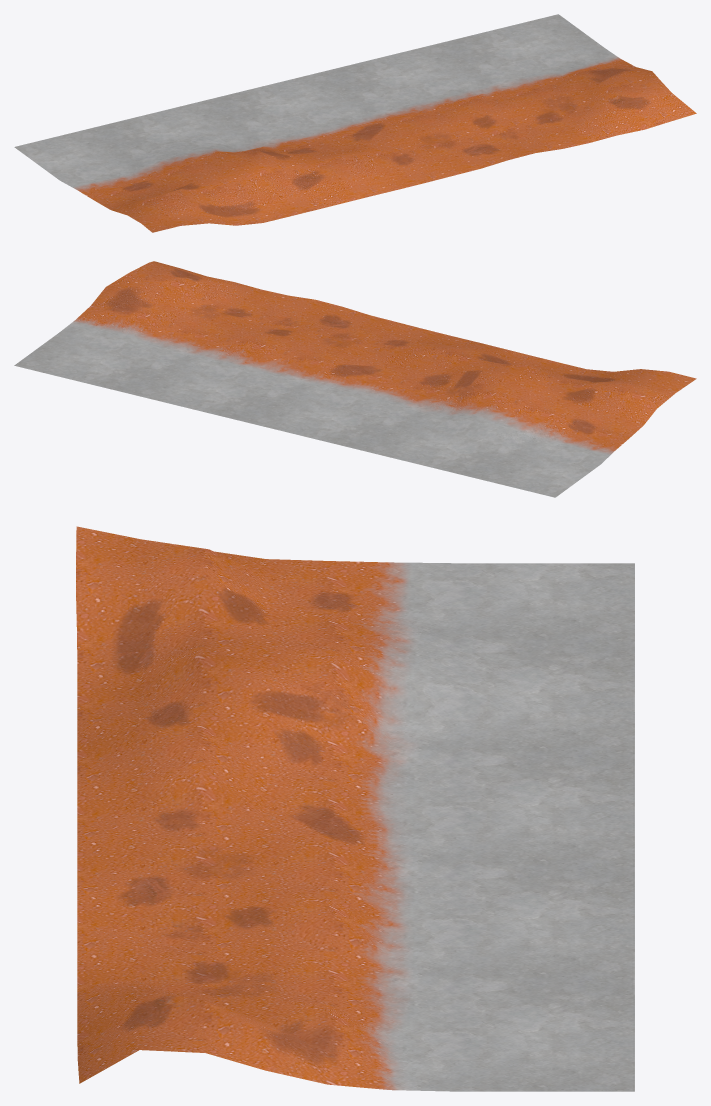
The model's file is SM_Terrain.fbx.
3 renders of one model, top to bottom at view 1: azimuth 30°, elevation 25°; view 2: azimuth 150°, elevation 25°; view 3: azimuth 270°, elevation 25°, orthographic. The views are drawn at different scales.
Visible parts, largest first — view 1: SM_Terrain; view 2: SM_Terrain; view 3: SM_Terrain.
Part boxes in pixels (box(x1,y1,x2,y2)): SM_Terrain: box(14, 14, 696, 232); SM_Terrain: box(14, 261, 696, 497); SM_Terrain: box(76, 526, 634, 1091).
Size of the model in its own units: 17644 by 662 by 7854.
